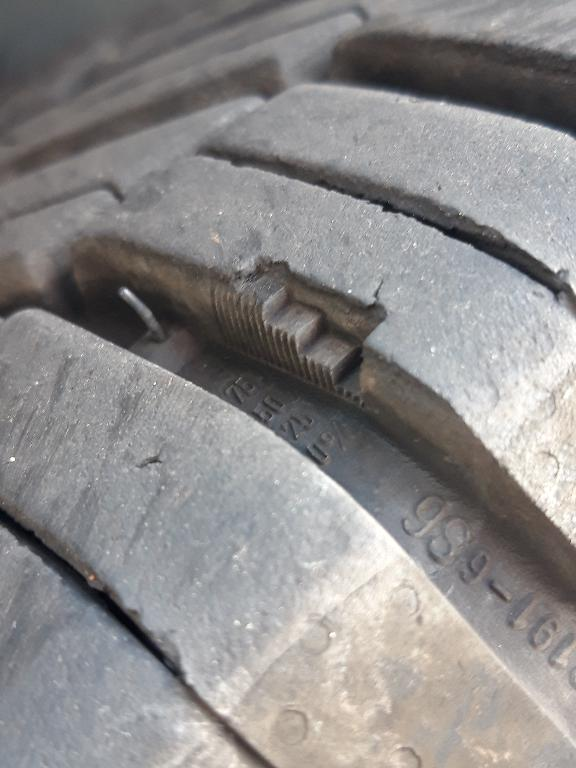temoin:90: (203, 242, 393, 416)
